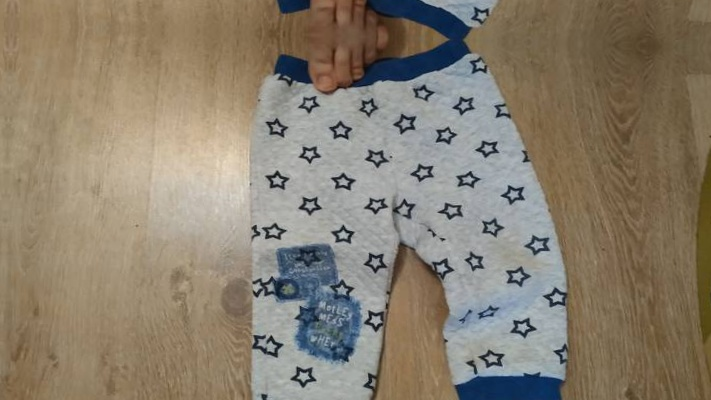Pants: (202, 48, 582, 400), (215, 0, 595, 26)
